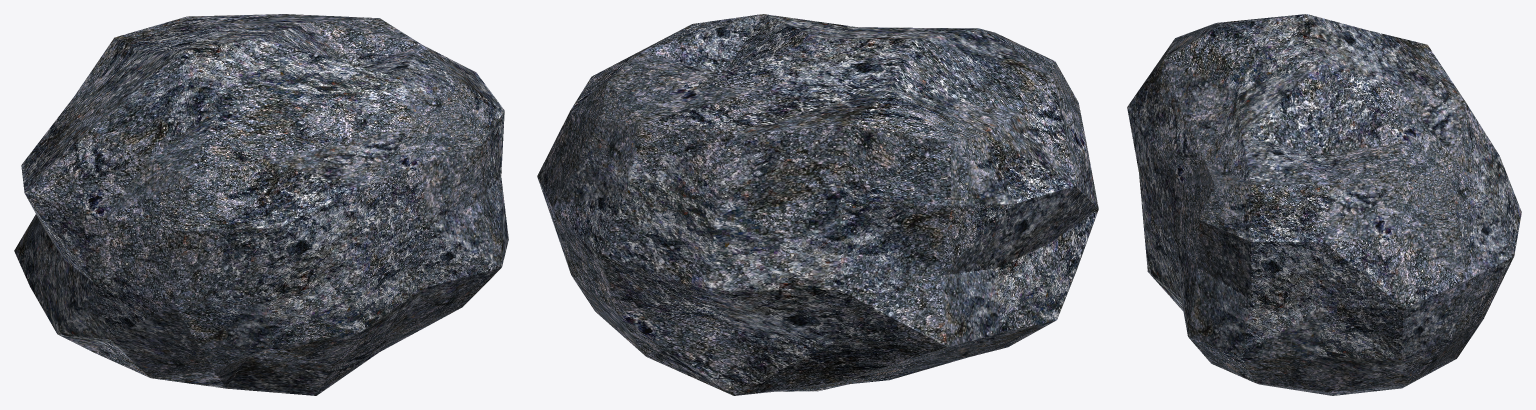
The model's file is asteroid_iron_large_s01_l1.fbx.
3 renders of one model, left to right at view 1: azimuth 30°, elevation 25°; view 2: azimuth 150°, elevation 25°; view 3: azimuth 270°, elevation 25°, orthographic. The views are drawn at different scales.
Visible parts, largest first — view 1: mesh_node; view 2: mesh_node; view 3: mesh_node.
Boxes of the visible parts, x1,y1,x2,y2 form: mesh_node: [14, 14, 508, 395]; mesh_node: [537, 14, 1098, 395]; mesh_node: [1127, 14, 1521, 395].
Bounding box in the file's own units: 117 × 84.51 × 93.56.
